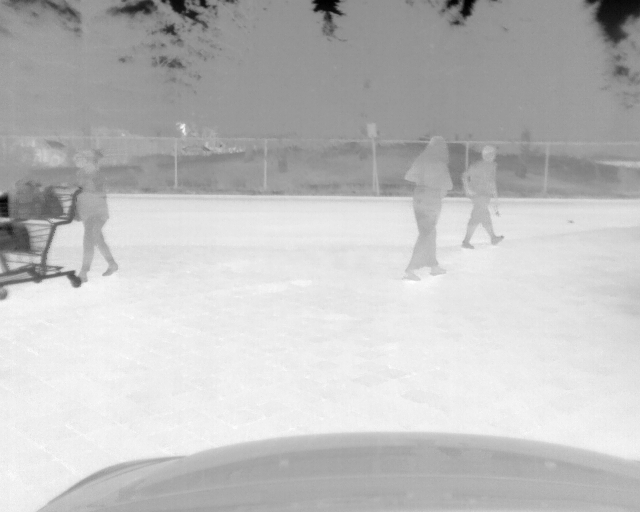people: (398, 135, 453, 281), (66, 148, 117, 284), (459, 144, 506, 250)
